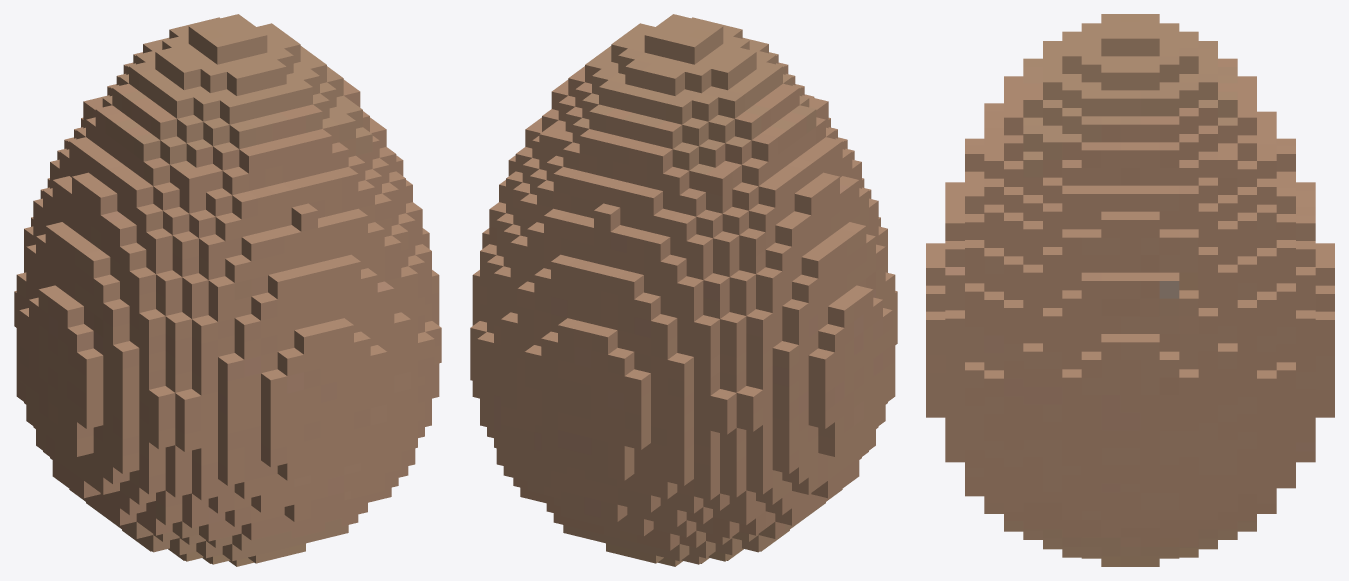
The model's file is egg.glb.
The picture shows the model from 3 angles, left to right: view 1: azimuth 30°, elevation 25°; view 2: azimuth 150°, elevation 25°; view 3: azimuth 270°, elevation 25°; orthographic projection.
Visible parts, largest first — view 1: tripo_node_bc3c6b3e-27bc-4c12-84b0-ae3cc8aefa55; view 2: tripo_node_bc3c6b3e-27bc-4c12-84b0-ae3cc8aefa55; view 3: tripo_node_bc3c6b3e-27bc-4c12-84b0-ae3cc8aefa55.
Boxes of the visible parts, <box> form: tripo_node_bc3c6b3e-27bc-4c12-84b0-ae3cc8aefa55: <box>14,14,441,566</box>; tripo_node_bc3c6b3e-27bc-4c12-84b0-ae3cc8aefa55: <box>470,14,897,566</box>; tripo_node_bc3c6b3e-27bc-4c12-84b0-ae3cc8aefa55: <box>926,14,1334,566</box>.
Size of the model in its own units: 0.7292 by 1.01 by 0.7292.
Materials: 1 (1 with a texture image).
